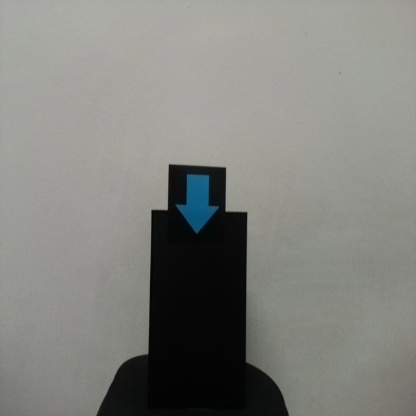id_2: (168, 164, 227, 250)
